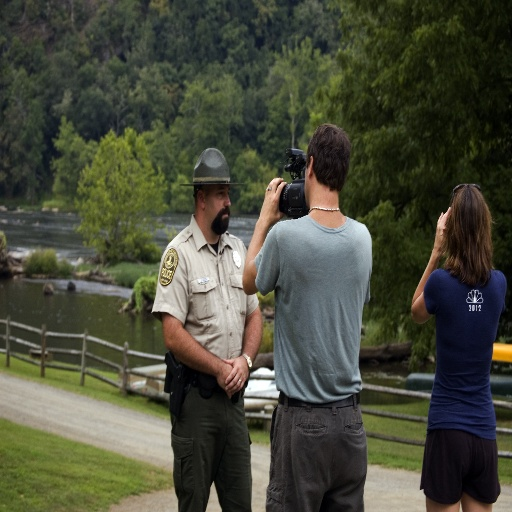hand: (258, 176, 288, 228), (224, 354, 250, 401), (435, 205, 451, 253)
